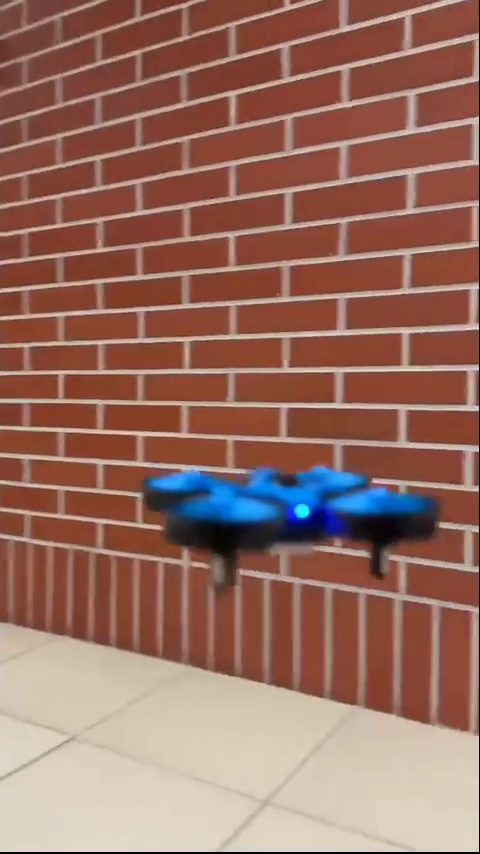drone: (144, 463, 438, 590)
